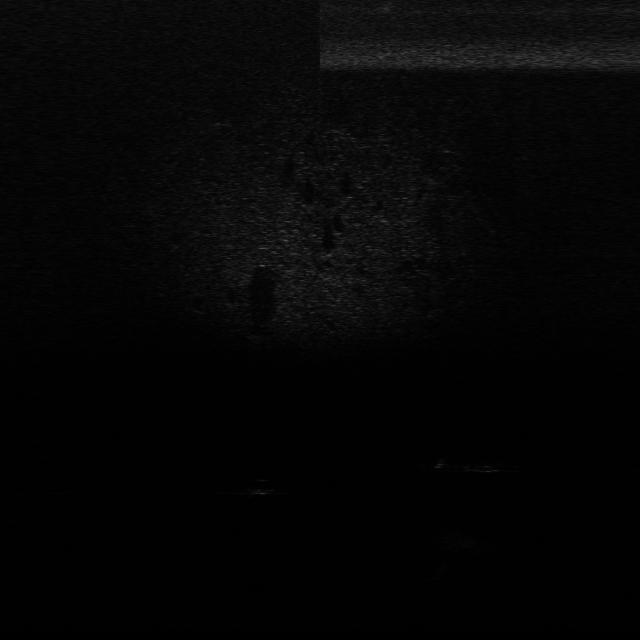ball: (246, 476, 276, 497)
circle cage: (430, 531, 500, 561)
human body: (437, 450, 519, 476)
